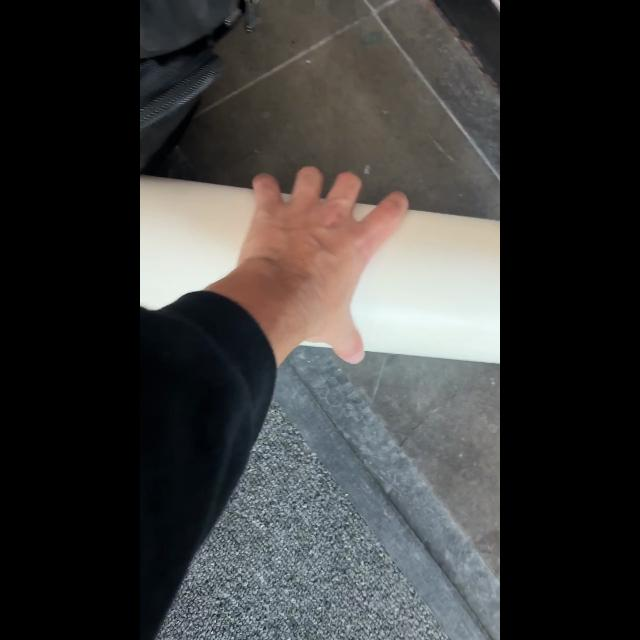CORAL: (142, 172, 498, 366)
